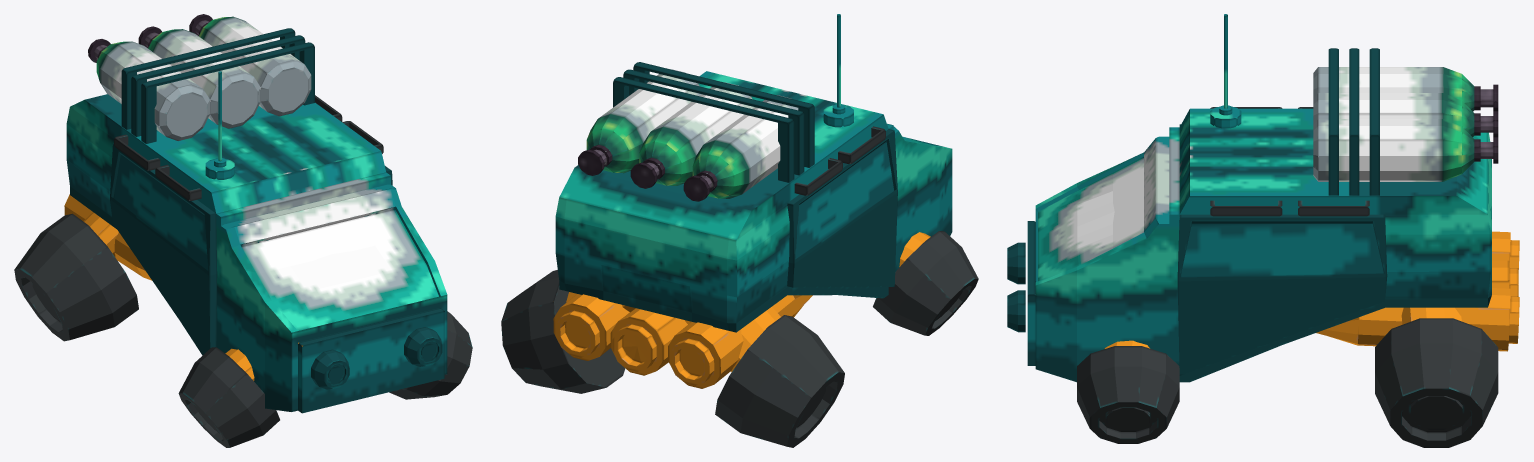
File: car.fbx
3 views of the same model, side by side, from view 1: azimuth 30°, elevation 25°; view 2: azimuth 150°, elevation 25°; view 3: azimuth 270°, elevation 25° (orthographic). The views are drawn at different scales.
Visible parts, largest first — view 1: car_mesh; view 2: car_mesh; view 3: car_mesh.
Boxes of the visible parts, box(x1,y1,x2,y2) form: car_mesh: box(14, 14, 472, 447); car_mesh: box(501, 14, 978, 447); car_mesh: box(1007, 14, 1519, 447).
Size of the model in its own units: 7.09 by 7.24 by 9.74.
Materials: 1 (1 with a texture image).
